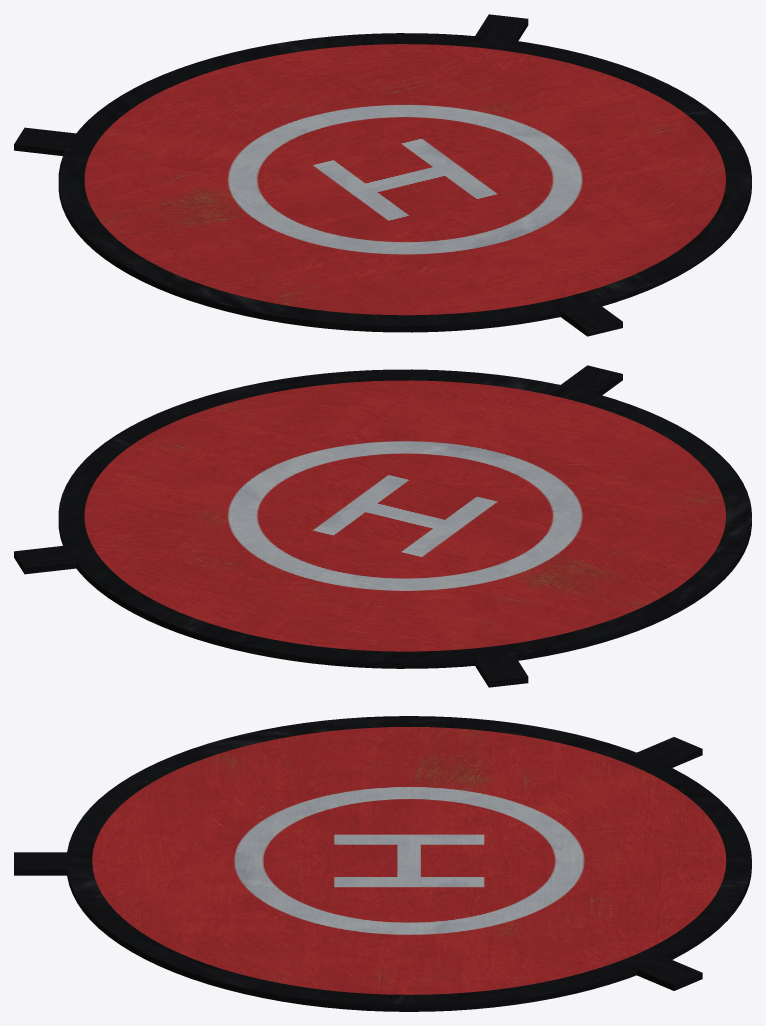
Rendered from e_color_DronePad_red.fbx.
3 views of the same model, one above another, from view 1: azimuth 30°, elevation 25°; view 2: azimuth 150°, elevation 25°; view 3: azimuth 270°, elevation 25° (orthographic).
Visible parts, largest first — view 1: DronePad_blue; view 2: DronePad_blue; view 3: DronePad_blue.
Boxes of the visible parts, box(x1,y1,x2,y2) form: DronePad_blue: box(14, 14, 751, 336); DronePad_blue: box(14, 365, 751, 687); DronePad_blue: box(14, 716, 751, 1011).
Size of the model in its own units: 200 by 2 by 215.
